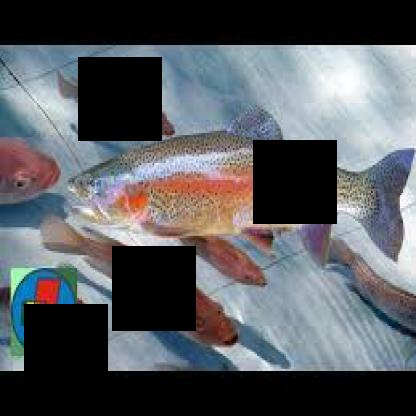fish: (66, 105, 414, 256)
